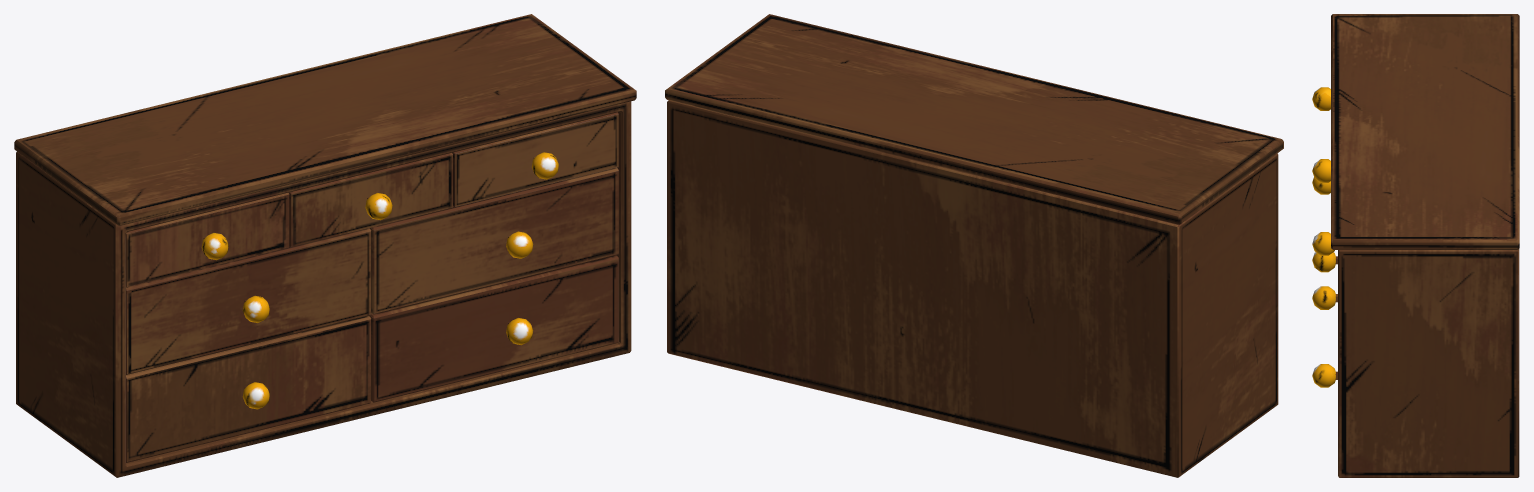
Rendered from Drawer_A.glb.
3 renders of one model, left to right at view 1: azimuth 30°, elevation 25°; view 2: azimuth 150°, elevation 25°; view 3: azimuth 270°, elevation 25°, orthographic. The views are drawn at different scales.
Parts seen in each view (by area): view 1: Drawer A, Drawer A.007, Drawer A.004, Drawer A.006, Drawer A.005, Drawer A.003, Drawer A.002, Drawer A.001; view 2: Drawer A; view 3: Drawer A, Drawer A.007, Drawer A.004, Drawer A.006, Drawer A.003, Drawer A.002, Drawer A.001.
Part boxes in pixels (x1,y1,x2,y2): Drawer A: (14, 14, 636, 477); Drawer A.007: (369, 255, 618, 402); Drawer A.004: (369, 167, 618, 314); Drawer A.006: (126, 316, 371, 462); Drawer A.005: (126, 228, 371, 374); Drawer A.003: (452, 112, 618, 207); Drawer A.002: (288, 152, 452, 247); Drawer A.001: (126, 192, 289, 287); Drawer A: (665, 14, 1283, 477); Drawer A: (1331, 14, 1519, 477); Drawer A.007: (1312, 364, 1337, 387); Drawer A.004: (1312, 286, 1337, 309); Drawer A.006: (1312, 252, 1337, 272); Drawer A.003: (1312, 232, 1334, 255); Drawer A.002: (1312, 159, 1330, 182); Drawer A.001: (1312, 87, 1330, 110).
Bounding box in the file's own units: 7.73 × 3.78 × 2.98.
Materials: 1 (1 with a texture image).
